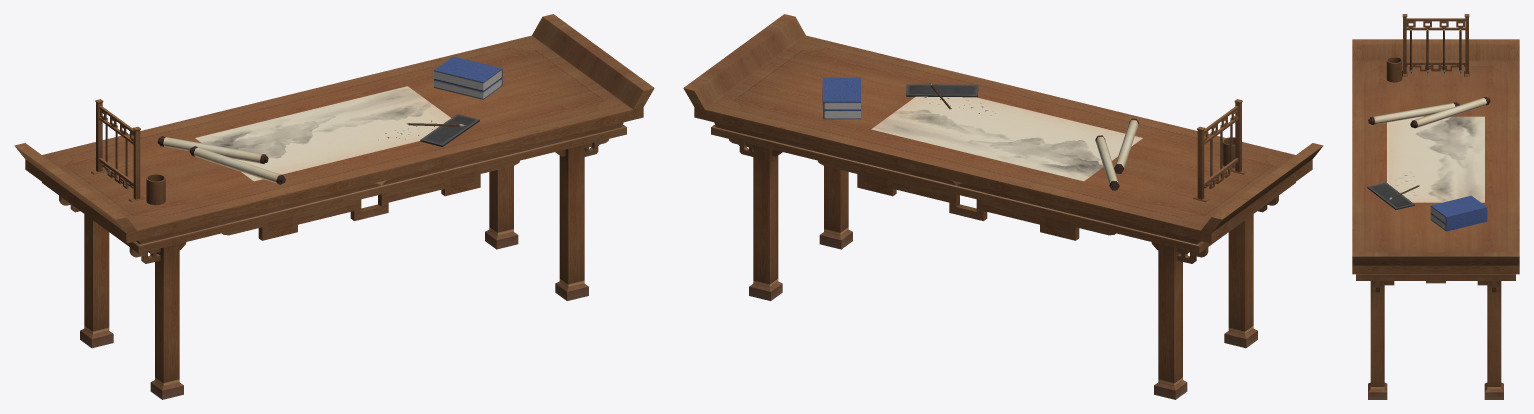
The model's file is Furniture_01_n.FBX.
3 renders of one model, left to right at view 1: azimuth 30°, elevation 25°; view 2: azimuth 150°, elevation 25°; view 3: azimuth 270°, elevation 25°, orthographic. The views are drawn at different scales.
Visible parts, largest first — view 1: Furniture_01_n; view 2: Furniture_01_n; view 3: Furniture_01_n.
Part boxes in pixels (left/top/right/bottom): Furniture_01_n: left=14, top=14, right=654, bottom=399; Furniture_01_n: left=683, top=14, right=1323, bottom=399; Furniture_01_n: left=1352, top=14, right=1519, bottom=399.
Size of the model in its own units: 227 by 103 by 73.65.
